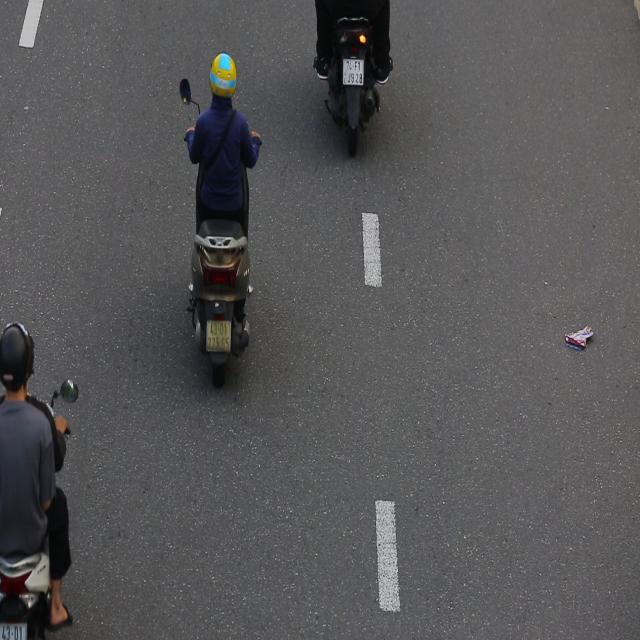motorbike: (178, 48, 266, 392)
